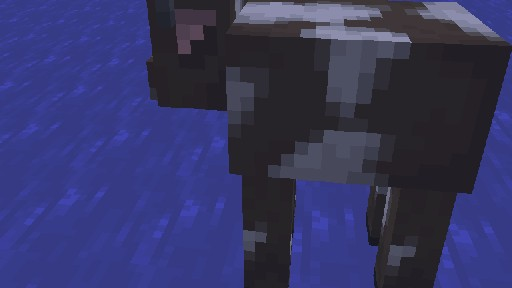cow: (145, 0, 512, 288)
